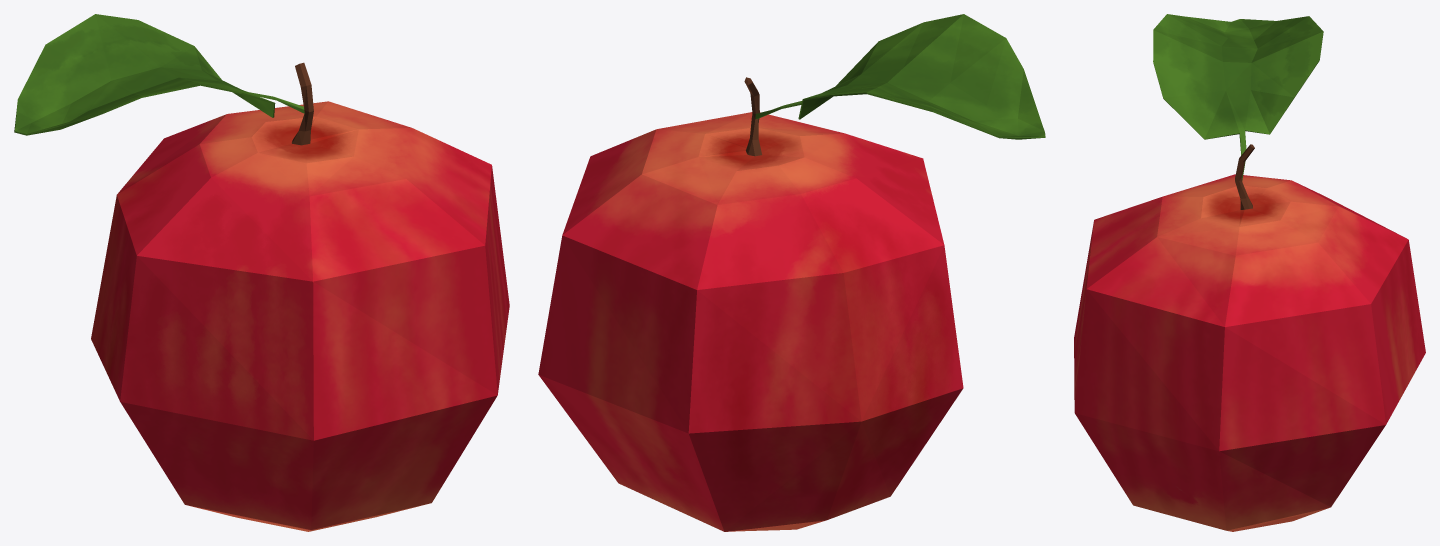
The model's file is Apple_Main.fbx.
3 renders of one model, left to right at view 1: azimuth 30°, elevation 25°; view 2: azimuth 150°, elevation 25°; view 3: azimuth 270°, elevation 25°, orthographic. The views are drawn at different scales.
Visible parts, largest first — view 1: Apple_Low; view 2: Apple_Low; view 3: Apple_Low.
Boxes of the visible parts, x1,y1,x2,y2 form: Apple_Low: (14,14,509,531); Apple_Low: (538,14,1045,531); Apple_Low: (1074,14,1425,531).
Bounding box in the file's own units: 60.31 × 59.17 × 45.65.
Materials: 1 (1 with a texture image).
